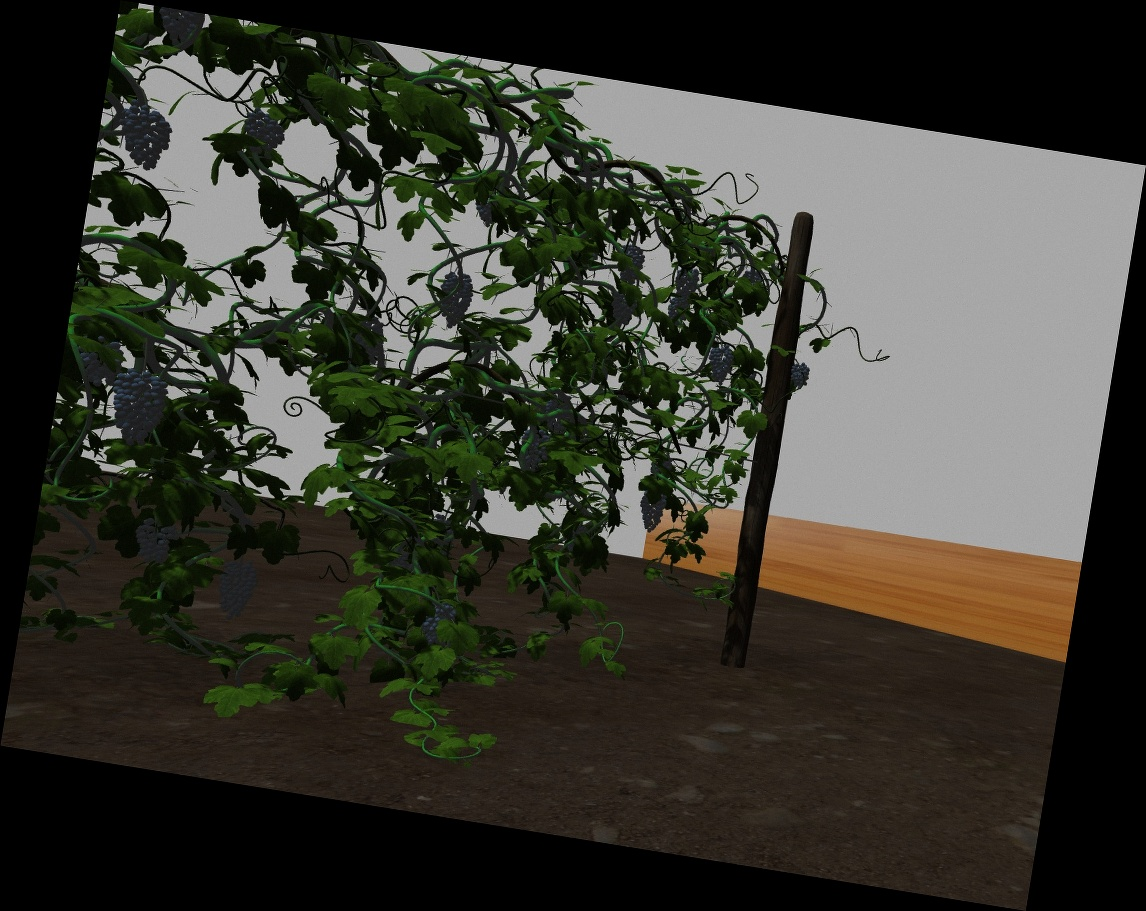grape: (109, 368, 166, 446), (117, 106, 171, 169), (216, 557, 257, 622), (79, 337, 123, 388), (134, 519, 178, 567), (438, 271, 473, 328), (243, 111, 286, 155), (158, 12, 198, 45), (519, 428, 548, 473), (423, 603, 454, 645), (638, 491, 667, 532), (544, 396, 573, 436), (617, 244, 645, 284), (707, 342, 733, 385), (611, 292, 638, 324), (675, 268, 700, 298), (667, 296, 690, 323), (790, 362, 811, 390)
